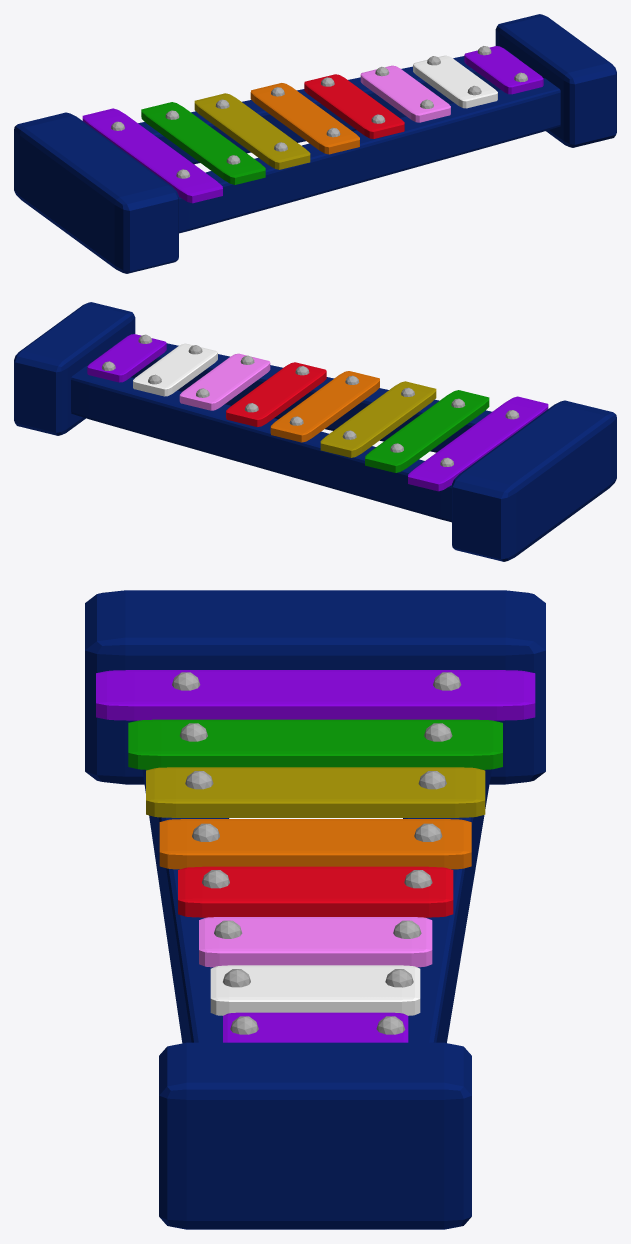
The model's file is xylophone.glb.
3 renders of one model, top to bottom at view 1: azimuth 30°, elevation 25°; view 2: azimuth 150°, elevation 25°; view 3: azimuth 270°, elevation 25°, orthographic. The views are drawn at different scales.
Parts seen in each view (by area): view 1: Xyophone; view 2: Xyophone; view 3: Xyophone.
Part boxes in pixels (x1,y1,x2,y2): Xyophone: (14,14,616,273); Xyophone: (14,302,616,561); Xyophone: (85,590,545,1229).
Size of the model in its own units: 2.36 by 0.3222 by 0.9162.
